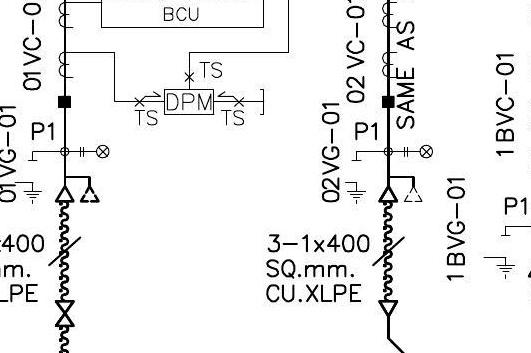22_gs: (483, 233, 517, 279), (14, 158, 44, 204), (343, 159, 367, 204)
22_ll: (79, 144, 110, 159), (403, 144, 434, 159)
DPM: (162, 88, 216, 116)
terminator_single: (377, 299, 400, 318)
terminator_splicing_kits: (54, 299, 75, 327)
terminator_w_future: (54, 174, 101, 204), (377, 175, 424, 204)
